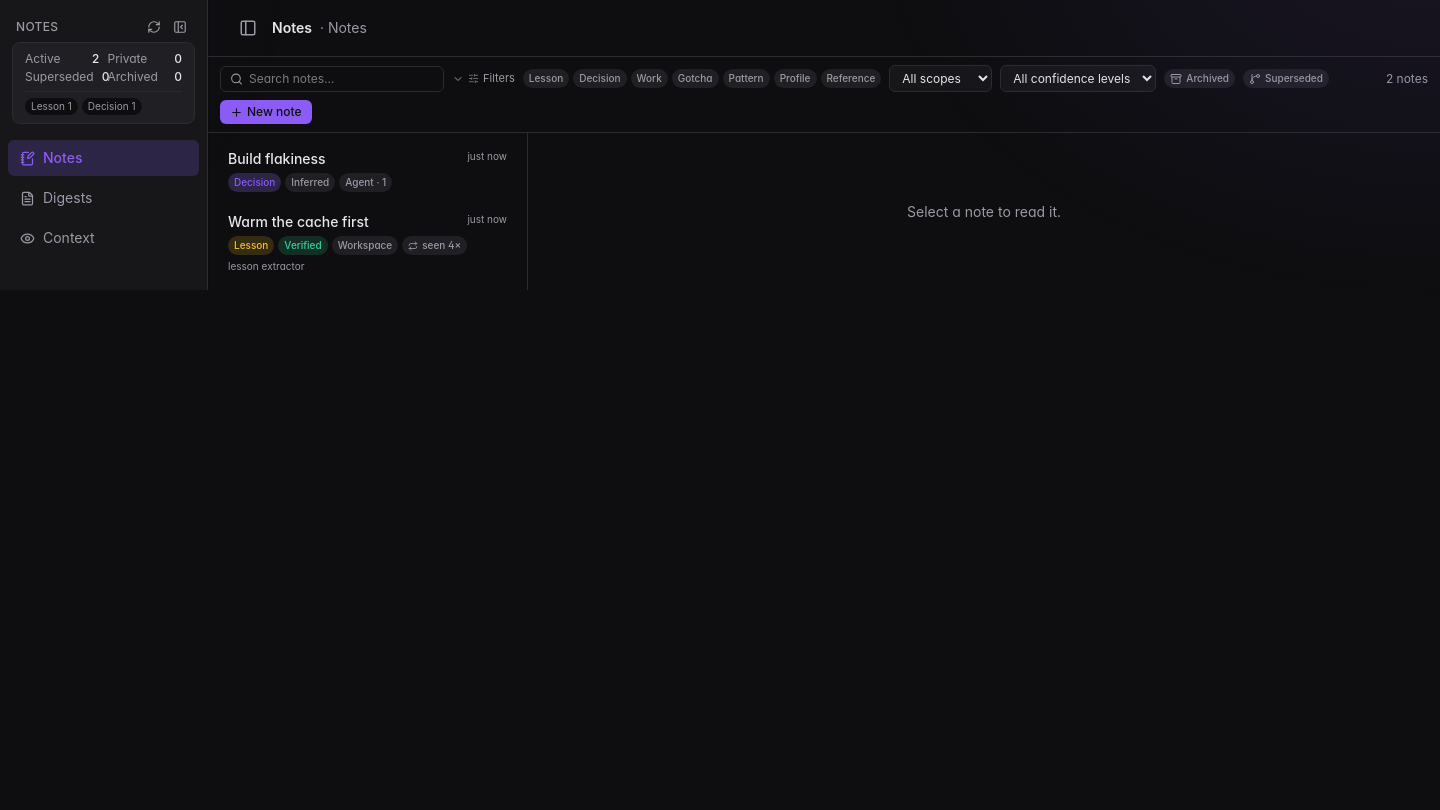
Test: NotesPanel › shows what a session was told: meter, sections and pulse
Click the button with test id "notes-tab-context" at (104, 238), box [8,220,199,256]
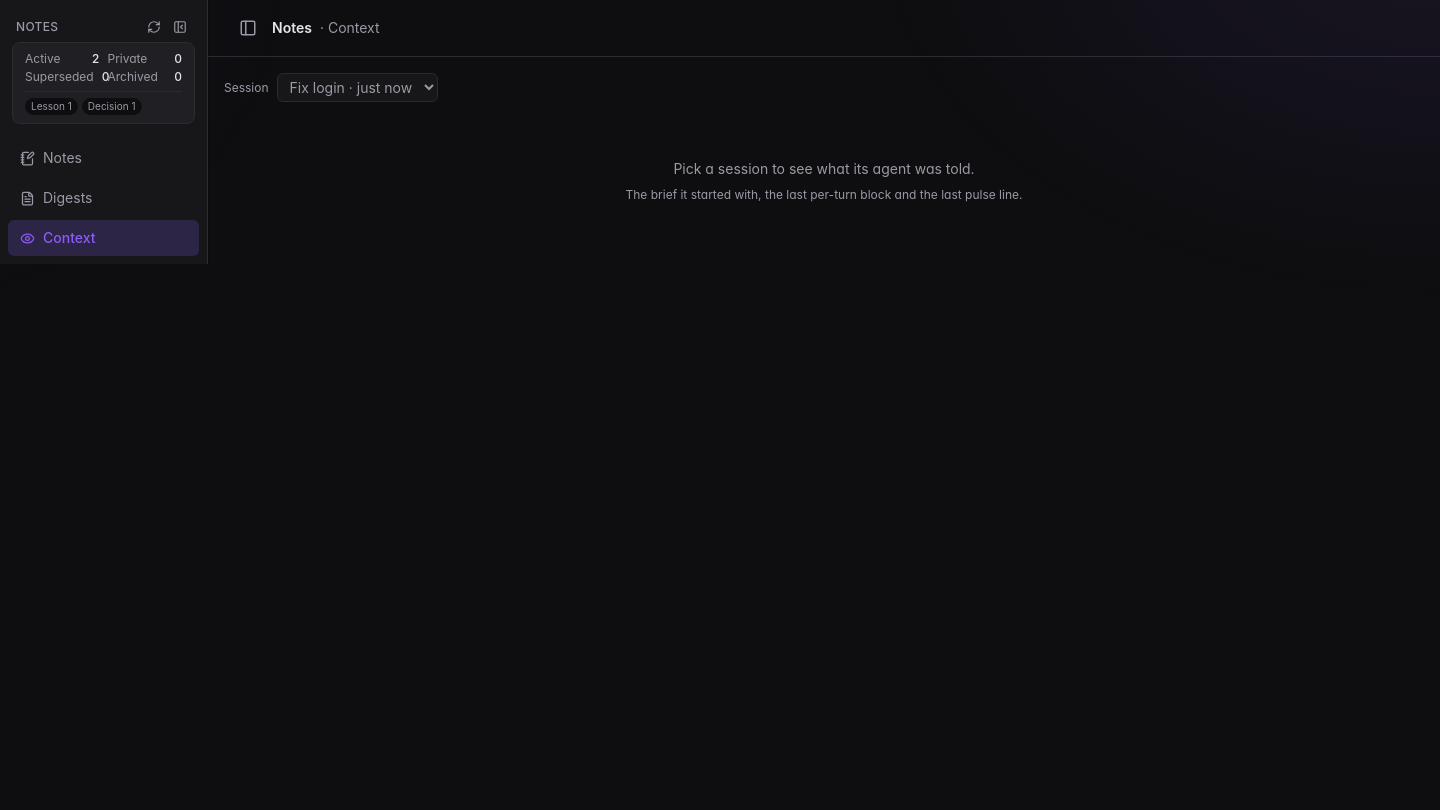
Select "Fix login · just now" in the dropdown with test id "context-session" at (357, 88), box [277,73,438,102]
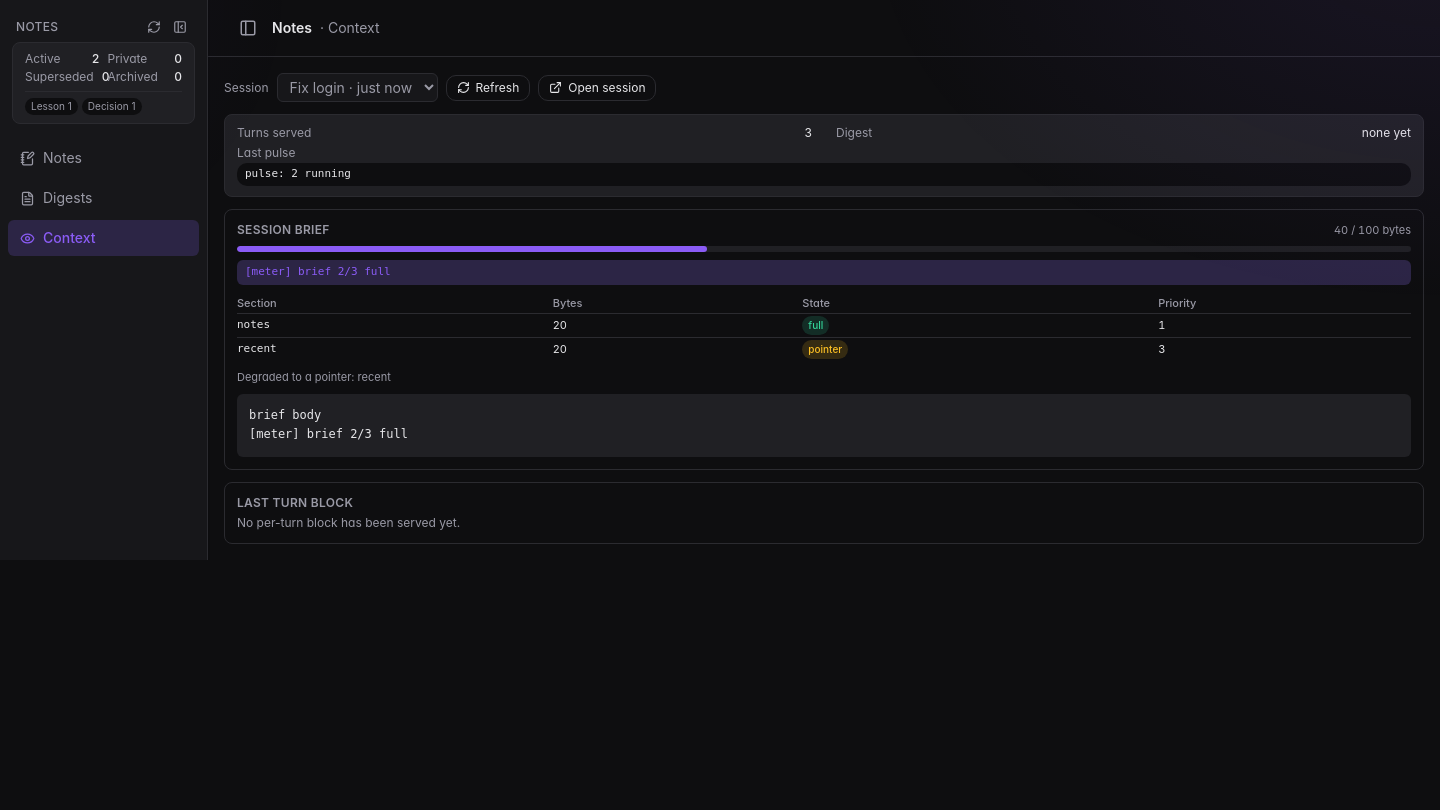
Expected: the text with test id "context-pulse" reads "pulse: 2 running", [245,167,351,180]
Expected: the text with test id "composition-meter" reads "[meter] brief 2/3 full", [245,265,391,278]
Expected: the text "pointer" is shown, [802,340,848,359]
